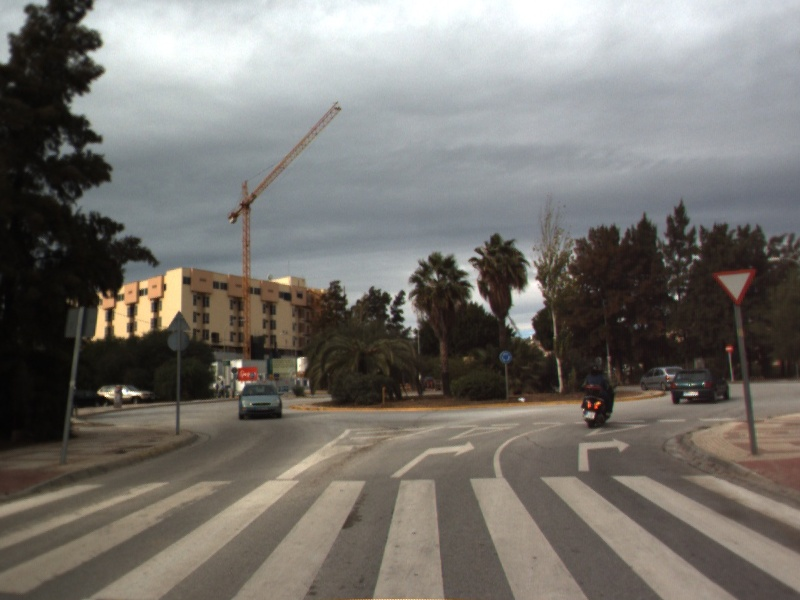RIGHT: (388, 438, 477, 480), (575, 436, 633, 473)
